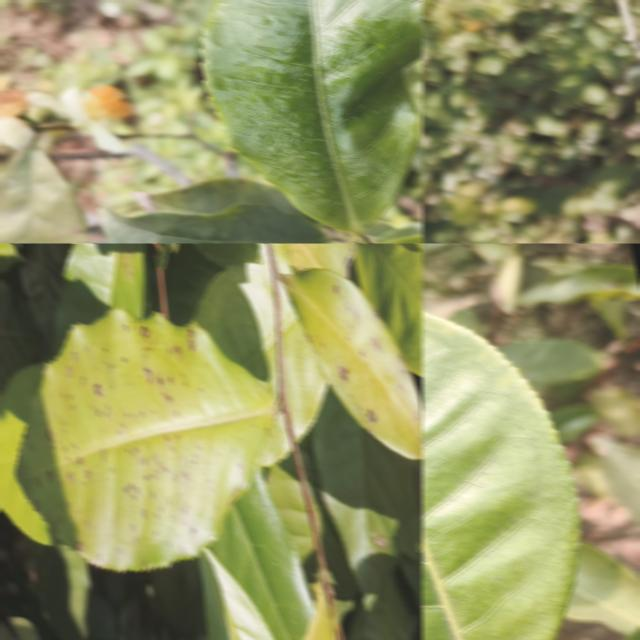Leaf: (15, 309, 276, 570), (421, 311, 580, 640), (201, 0, 423, 232), (280, 268, 423, 458), (209, 468, 315, 640), (193, 244, 279, 402), (51, 243, 146, 354), (354, 243, 423, 376), (100, 203, 325, 243), (0, 143, 89, 243), (279, 285, 327, 440), (564, 542, 640, 634), (198, 549, 274, 640), (152, 177, 301, 217), (499, 338, 602, 392), (517, 263, 640, 305), (590, 436, 640, 526), (281, 243, 355, 277), (490, 251, 524, 313), (257, 414, 292, 462)
